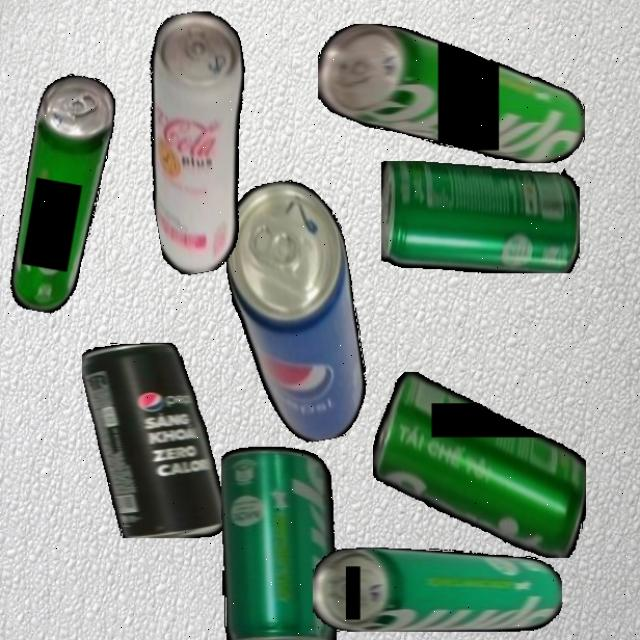debris: (214, 172, 377, 451), (122, 5, 278, 278), (372, 371, 586, 558), (318, 23, 585, 163), (4, 70, 121, 318), (82, 342, 224, 538), (380, 160, 580, 273), (221, 445, 336, 640), (313, 546, 562, 632)
